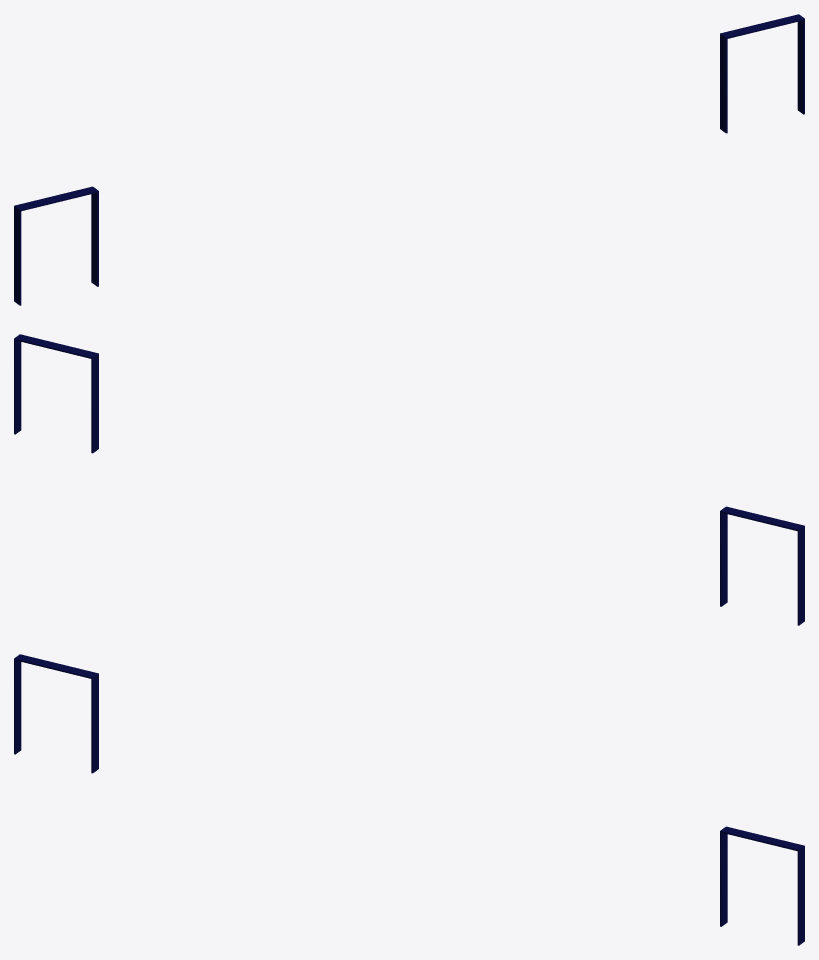
File: Al_Nasar_Football_Stadium_CrowdSittingArea_005.FBX
3 renders of one model, top to bottom at view 1: azimuth 30°, elevation 25°; view 2: azimuth 150°, elevation 25°; view 3: azimuth 330°, elevation 25°, orthographic.
Parts seen in each view (by area): view 1: Al_Nasar_Football_Stadium_CrowdSittingArea_005; view 2: Al_Nasar_Football_Stadium_CrowdSittingArea_005; view 3: Al_Nasar_Football_Stadium_CrowdSittingArea_005.
Boxes of the visible parts, x1=… form: Al_Nasar_Football_Stadium_CrowdSittingArea_005: x1=14, y1=14, x2=804, y2=305; Al_Nasar_Football_Stadium_CrowdSittingArea_005: x1=14, y1=334, x2=804, y2=625; Al_Nasar_Football_Stadium_CrowdSittingArea_005: x1=14, y1=654, x2=804, y2=945.
Bounding box in the file's own units: 3000 × 40 × 350.
